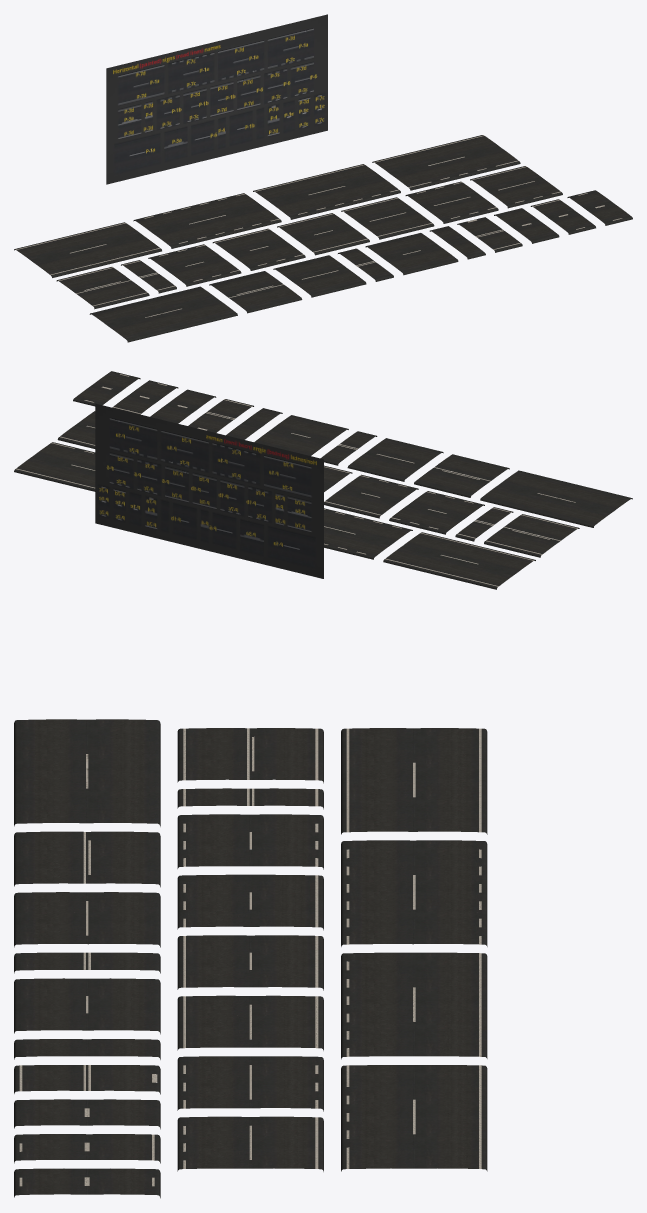
Rendered from kiosk.glb.
The picture shows the model from 3 angles, top to bottom: view 1: azimuth 30°, elevation 25°; view 2: azimuth 150°, elevation 25°; view 3: azimuth 270°, elevation 25°; orthographic projection. The views are drawn at different scales.
Visible parts, largest first — view 1: p4_p7d_Material.001_0, desc_M_desc_0, p4_p7d_Material.002_0; view 2: p4_p7d_Material.001_0, desc_M_desc_0, p4_p7d_Material.002_0; view 3: p4_p7d_Material.001_0, p4_p7d_Material.002_0.
Boxes of the visible parts, bbox=[...] form: p4_p7d_Material.001_0: bbox=[14, 135, 632, 342]; desc_M_desc_0: bbox=[106, 14, 327, 184]; p4_p7d_Material.002_0: bbox=[16, 135, 621, 317]; p4_p7d_Material.001_0: bbox=[14, 371, 632, 589]; desc_M_desc_0: bbox=[95, 403, 323, 578]; p4_p7d_Material.002_0: bbox=[16, 374, 577, 586]; p4_p7d_Material.001_0: bbox=[14, 719, 487, 1198]; p4_p7d_Material.002_0: bbox=[19, 728, 481, 1186].
Bounding box in the file's own units: 55 × 12.75 × 30.29.
Materials: 3 (3 with a texture image).
